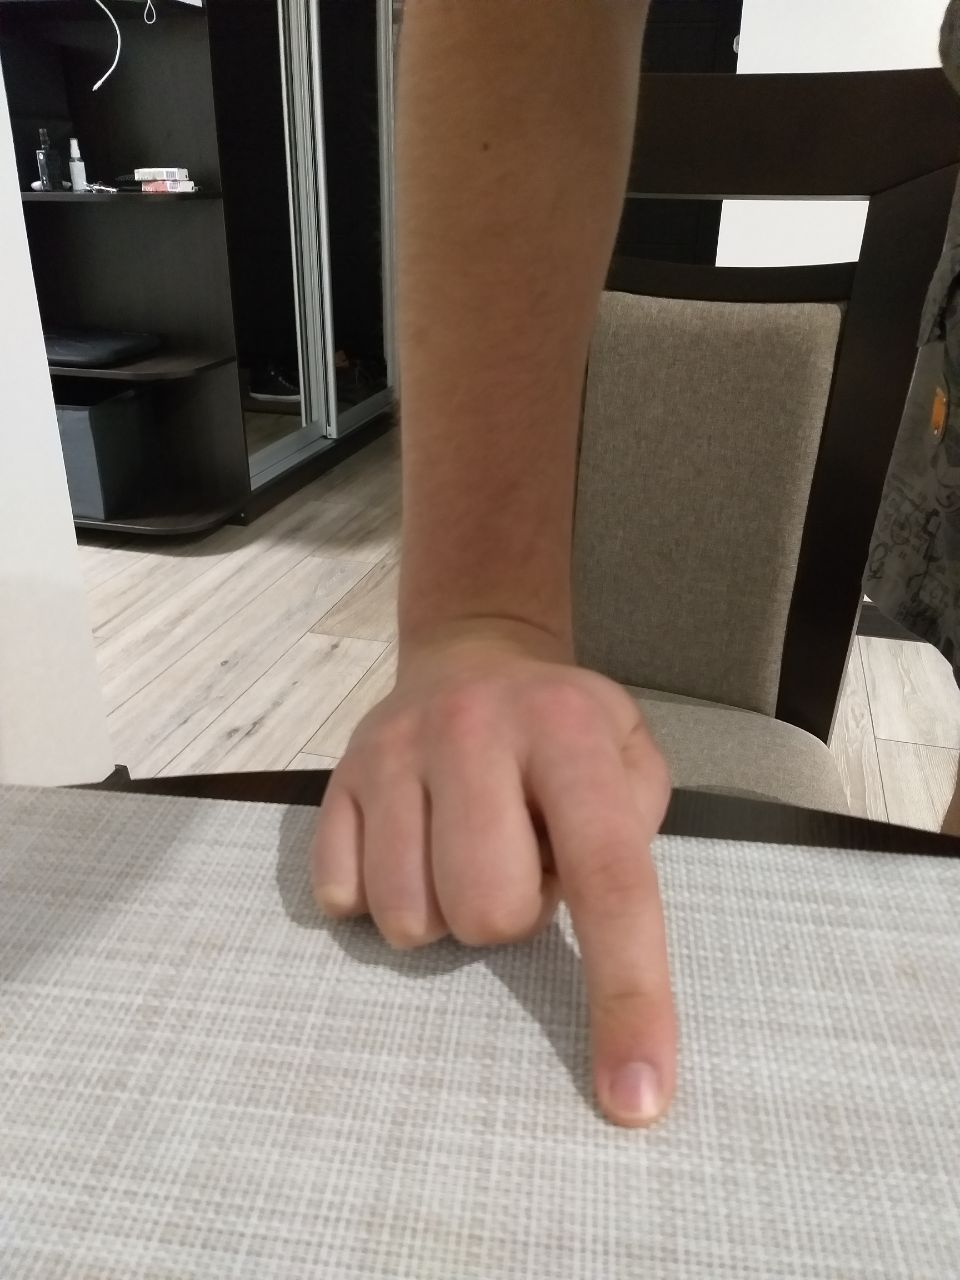finger: (594, 1029, 675, 1125)
